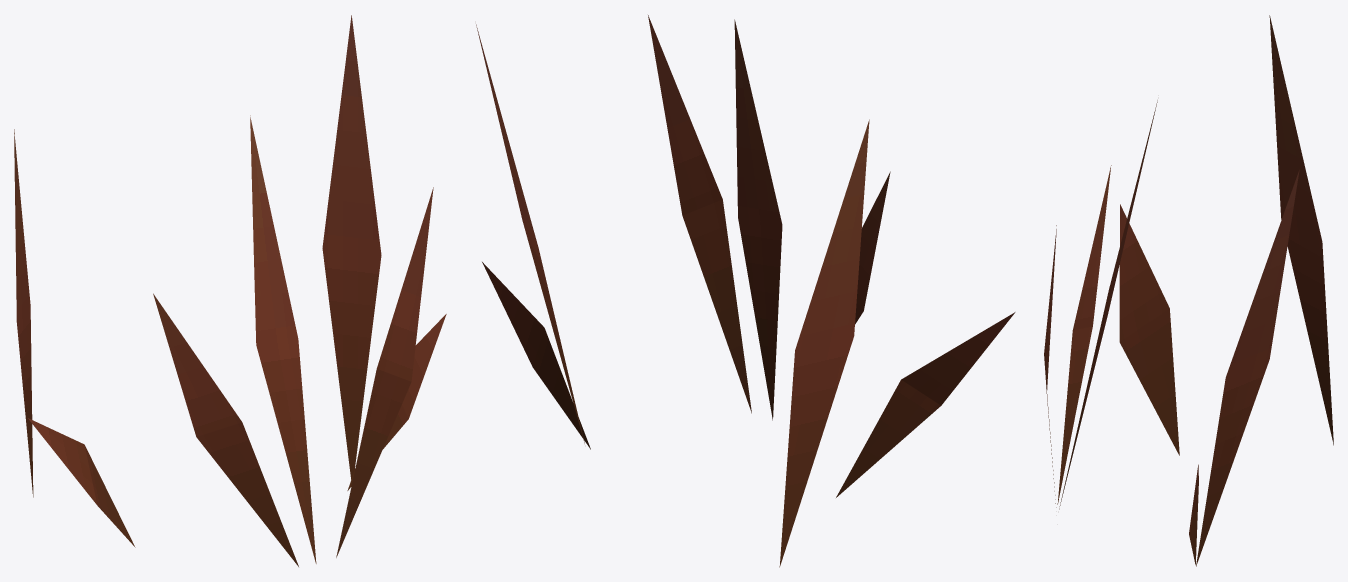
File: plants_me_level_grass81.gltf
3 renders of one model, left to right at view 1: azimuth 30°, elevation 25°; view 2: azimuth 150°, elevation 25°; view 3: azimuth 270°, elevation 25°, orthographic. The views are drawn at different scales.
Visible parts, largest first — view 1: um_plants_me_level_grass81_model_plants_me_level_grass81_mod; view 2: um_plants_me_level_grass81_model_plants_me_level_grass81_mod; view 3: um_plants_me_level_grass81_model_plants_me_level_grass81_mod.
Part boxes in pixels (bbox=[...]): um_plants_me_level_grass81_model_plants_me_level_grass81_mod: bbox=[14, 15, 446, 566]; um_plants_me_level_grass81_model_plants_me_level_grass81_mod: bbox=[476, 15, 1015, 567]; um_plants_me_level_grass81_model_plants_me_level_grass81_mod: bbox=[1044, 15, 1333, 566].
Size of the model in its own units: 0.4592 by 0.4072 by 0.2517.
Materials: 1 (1 with a texture image).
